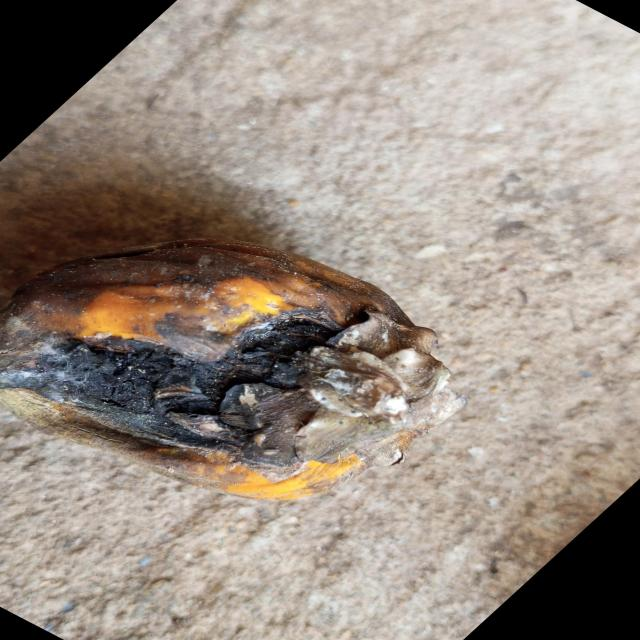damaged: (0, 249, 462, 508)
